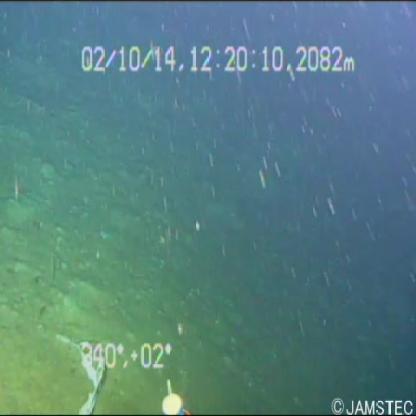Rov: (152, 372, 196, 416)
Rác: (47, 321, 116, 416)
